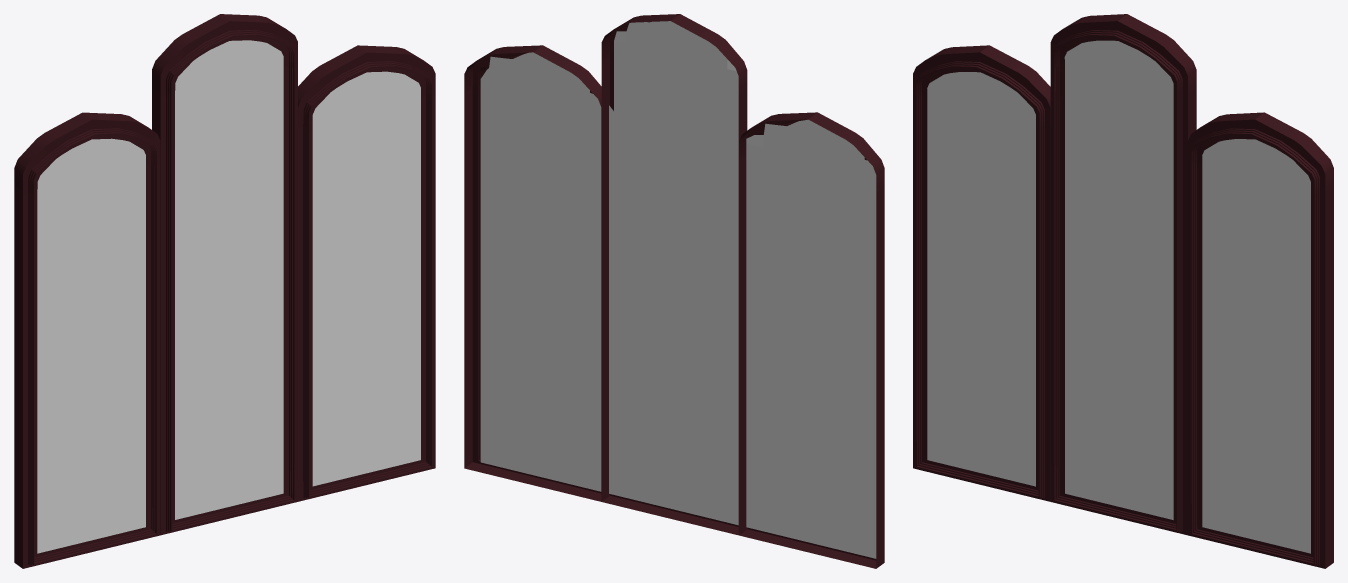
File: Set_Glass.fbx
The picture shows the model from 3 angles, left to right: view 1: azimuth 30°, elevation 25°; view 2: azimuth 150°, elevation 25°; view 3: azimuth 330°, elevation 25°; orthographic projection.
Parts seen in each view (by area): view 1: Plane.022, Paint 1.023, Paint 1.024, Paint 1.025; view 2: Plane.022, Paint 1.025, Paint 1.023, Paint 1.024; view 3: Plane.022, Paint 1.025, Paint 1.024, Paint 1.023.
Boxes of the visible parts, x1,y1,x2,y2 form: Plane.022: [37, 40, 420, 553]; Paint 1.023: [14, 112, 160, 568]; Paint 1.024: [152, 14, 297, 535]; Paint 1.025: [298, 45, 435, 501]; Plane.022: [480, 21, 876, 558]; Paint 1.025: [464, 45, 601, 501]; Paint 1.023: [739, 112, 884, 568]; Paint 1.024: [601, 14, 747, 535]; Plane.022: [927, 40, 1310, 553]; Paint 1.025: [1188, 112, 1333, 568]; Paint 1.024: [1050, 14, 1196, 535]; Paint 1.023: [913, 45, 1050, 501].
Bounding box in the file's own units: 371 × 428 × 20.68.
